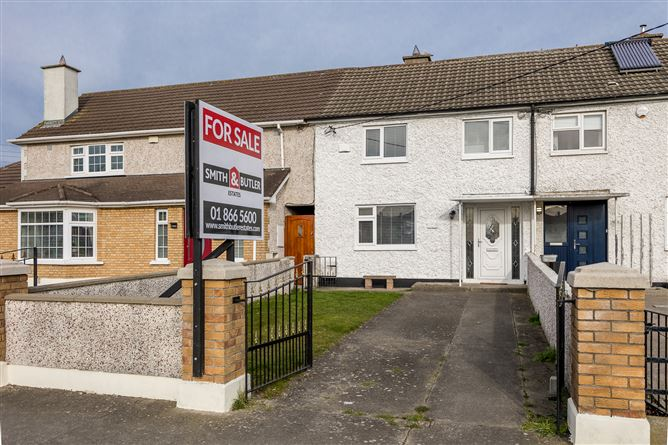property sign: (180, 90, 280, 241)
